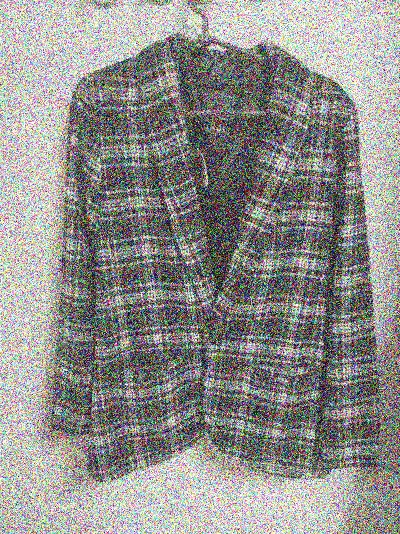Blazer: (19, 41, 391, 493)
